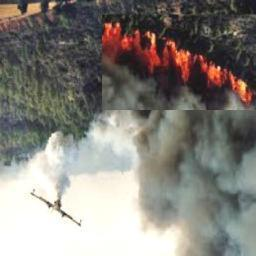Heavy smoke: (132, 111, 256, 256)
Medium fire: (103, 23, 256, 107)
